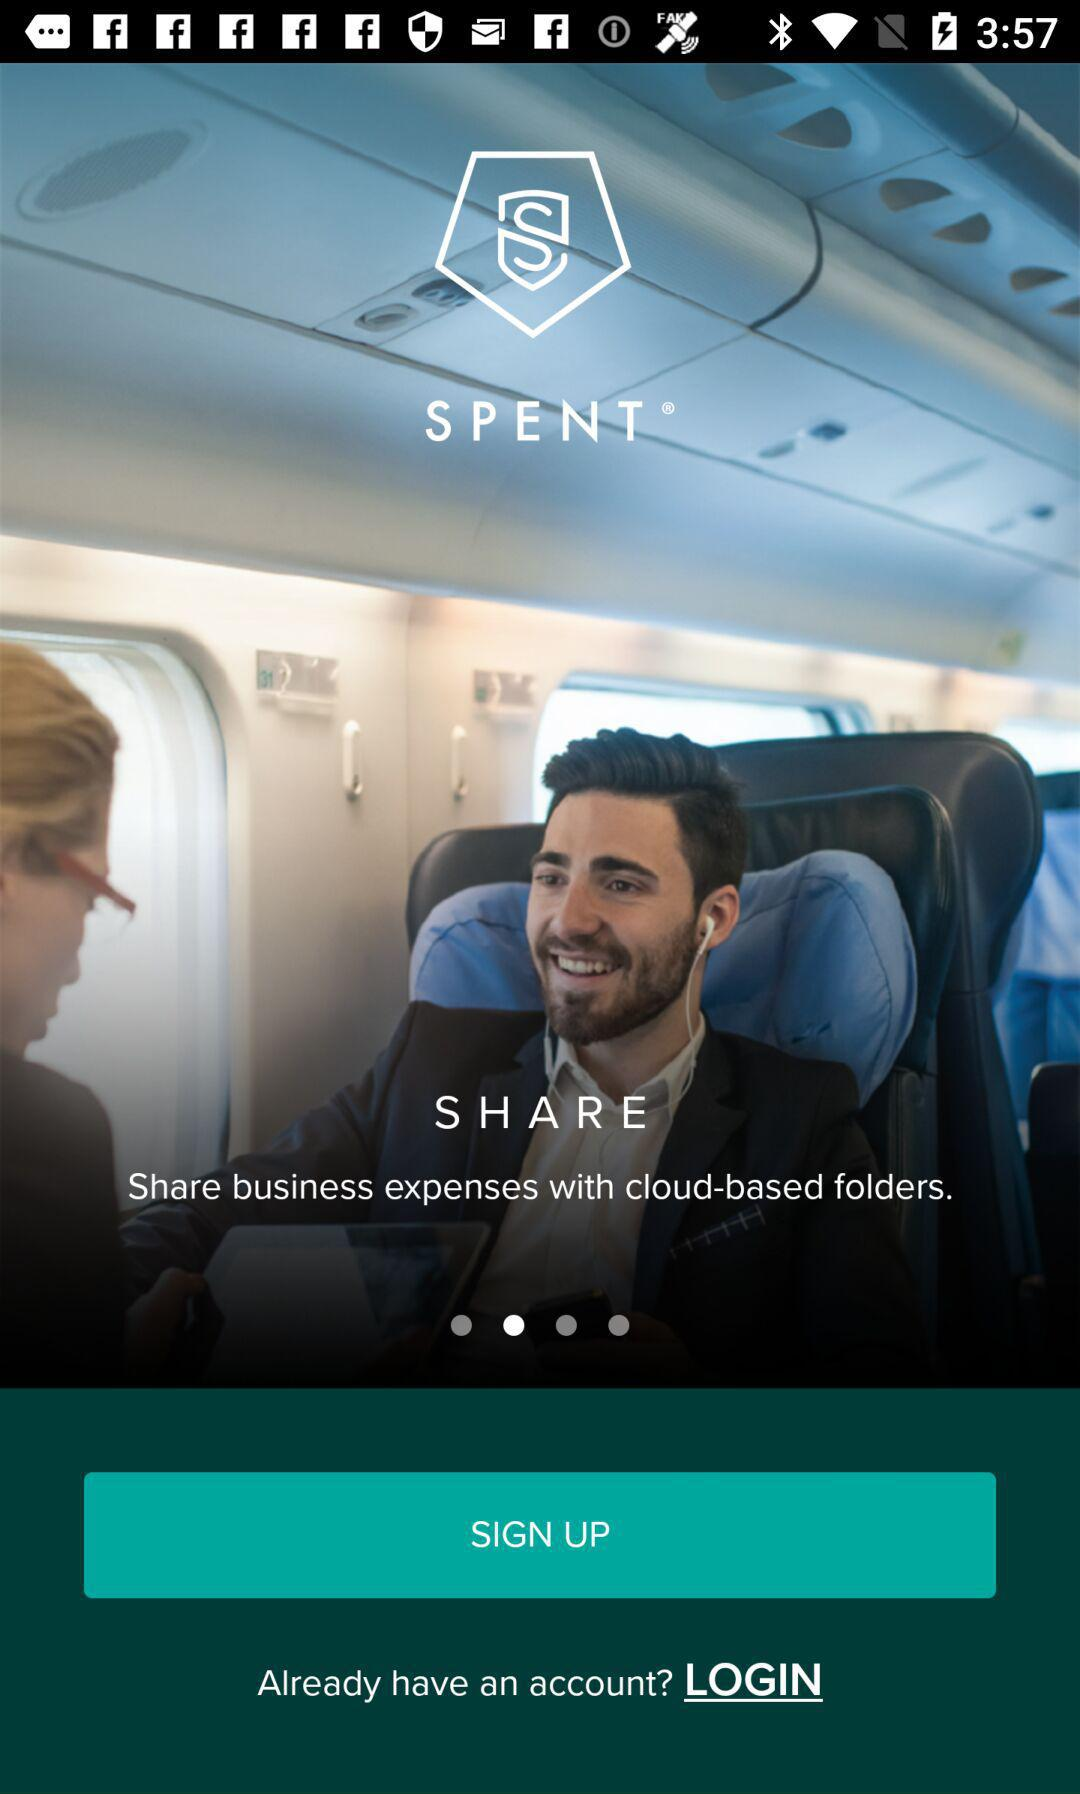Image: (1, 64, 1080, 1388), (436, 151, 635, 342)
PageIndicator: (448, 1313, 632, 1338)
Text: (126, 1169, 956, 1207), (258, 1659, 826, 1706), (424, 399, 680, 447), (432, 1093, 646, 1132)
TextButton: (83, 1471, 998, 1601)
UpperTaskBar: (1, 1, 1080, 64)
